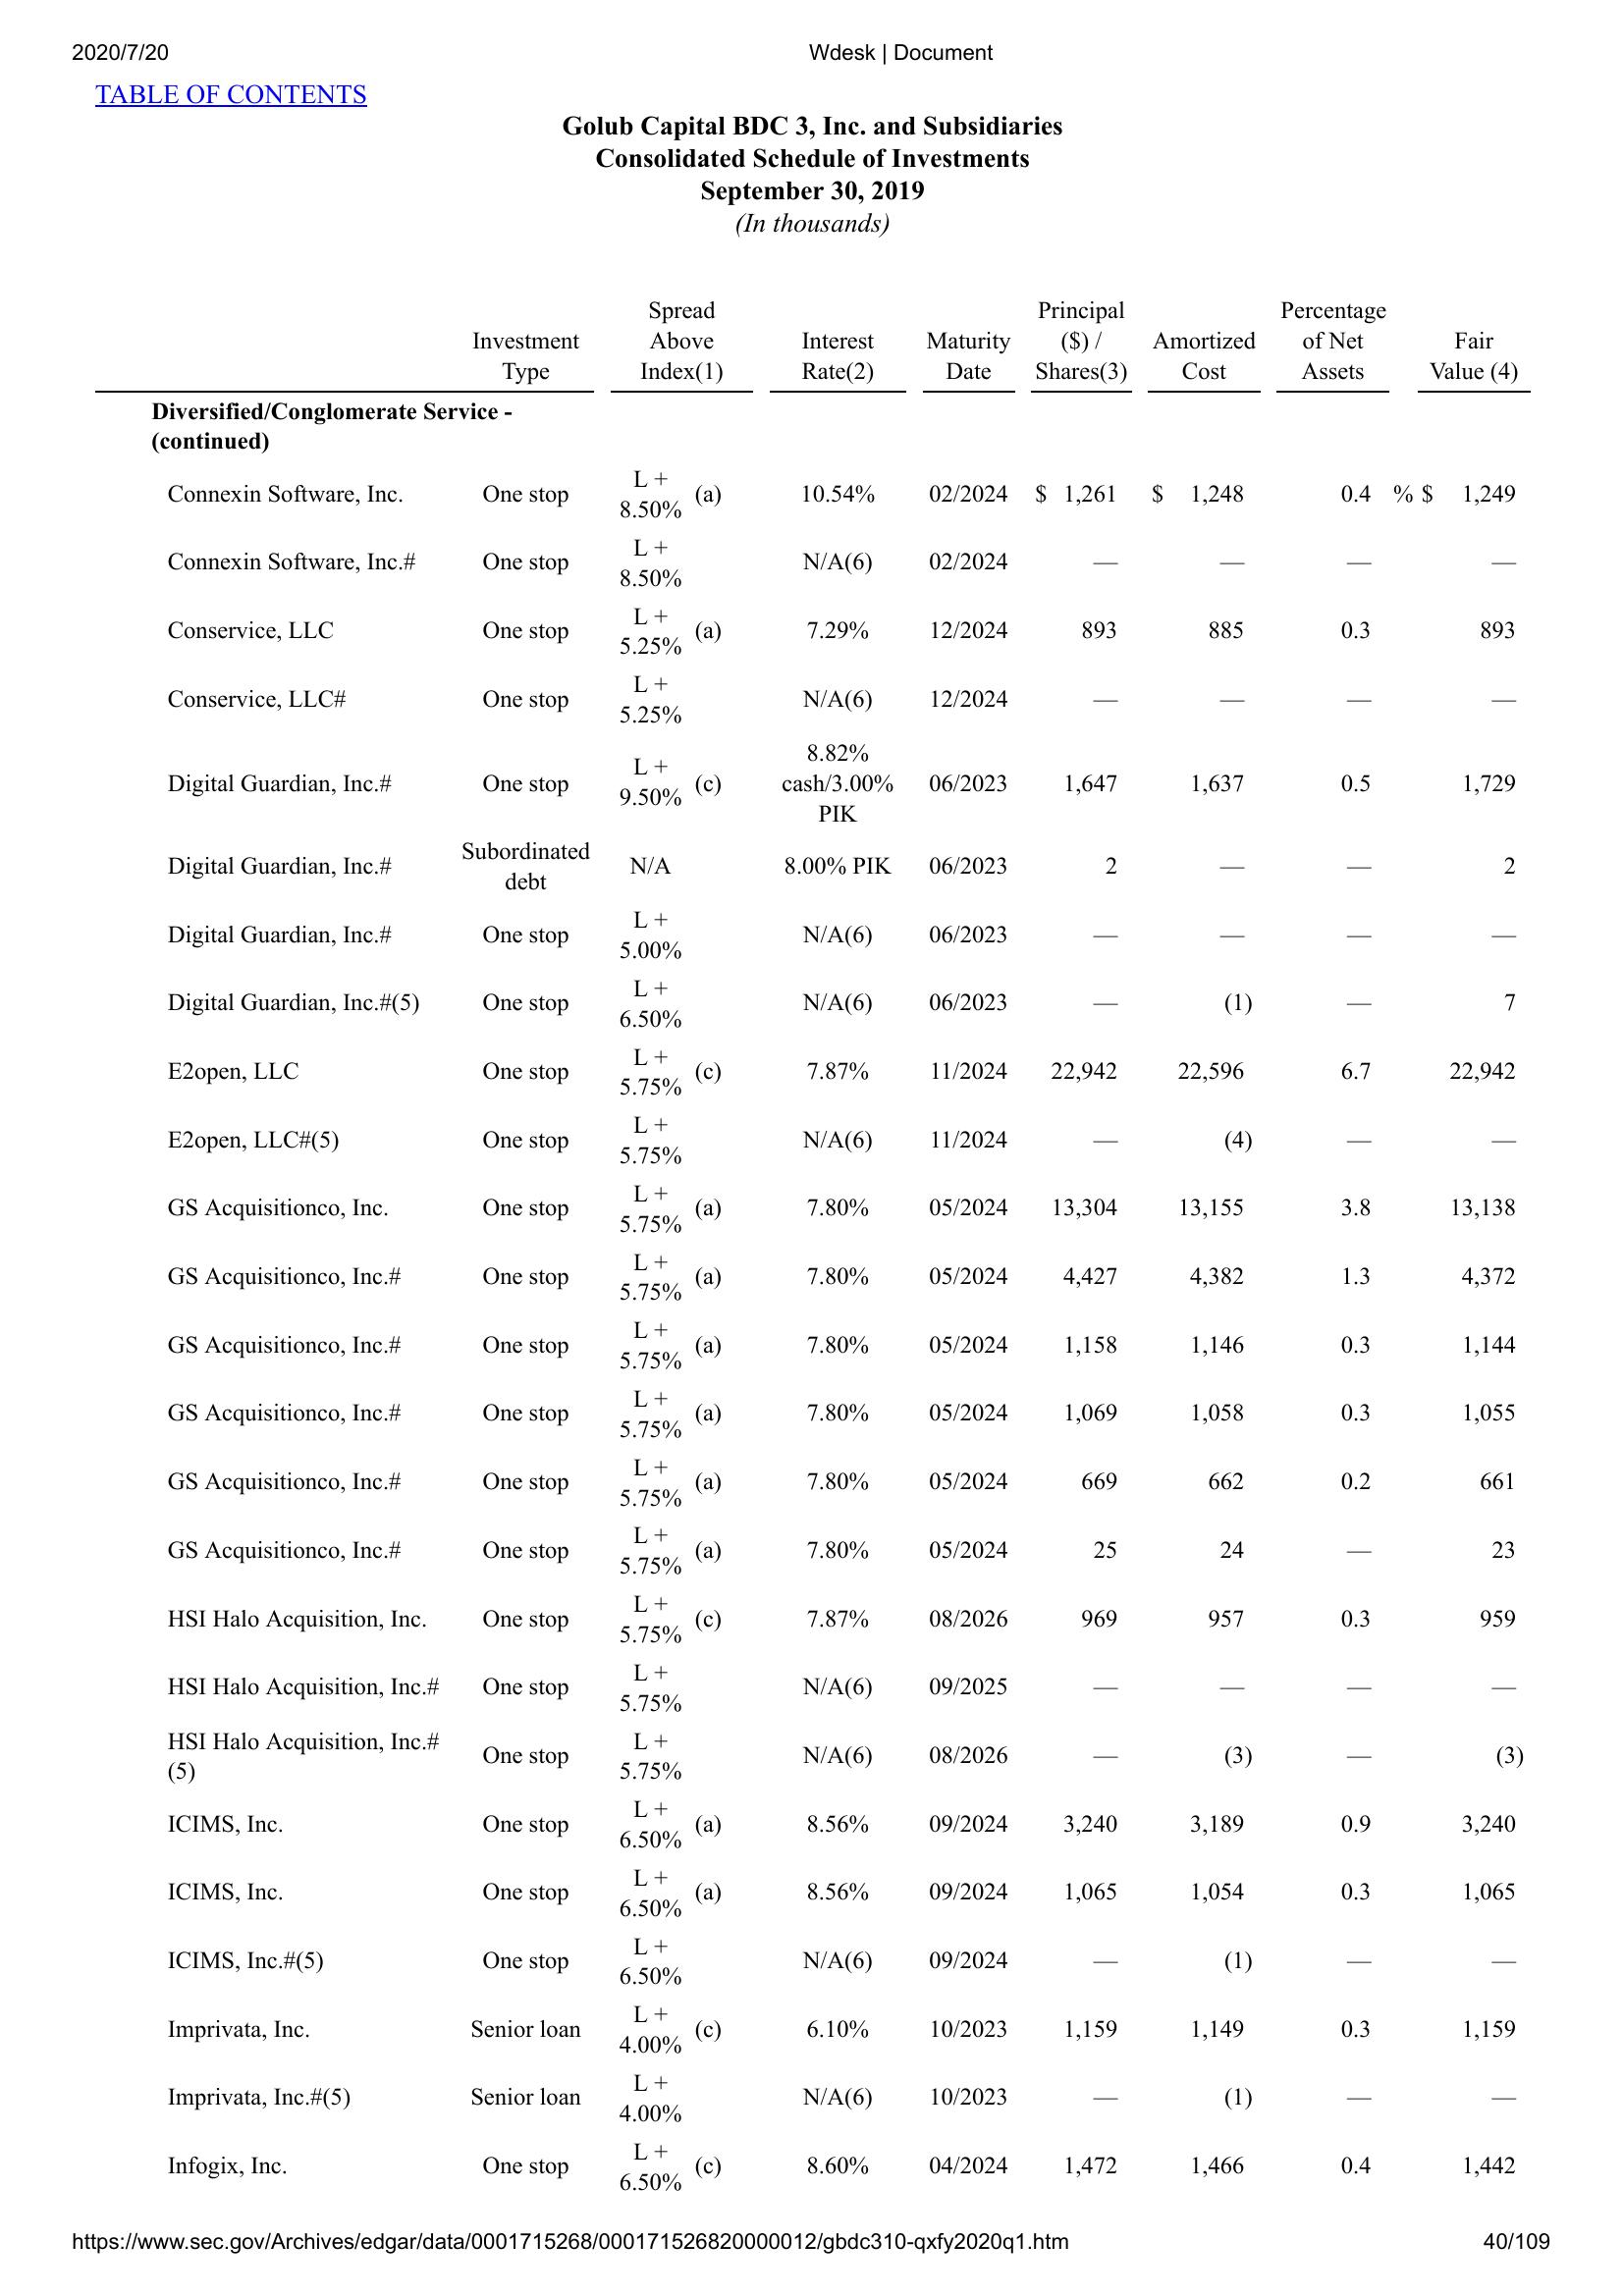table: (86, 293, 1540, 2194)
